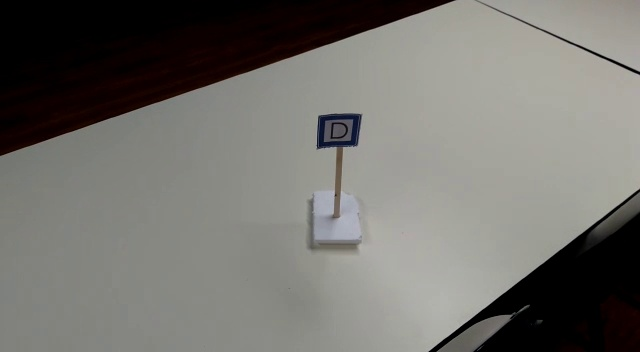durak: (315, 114, 360, 150)
